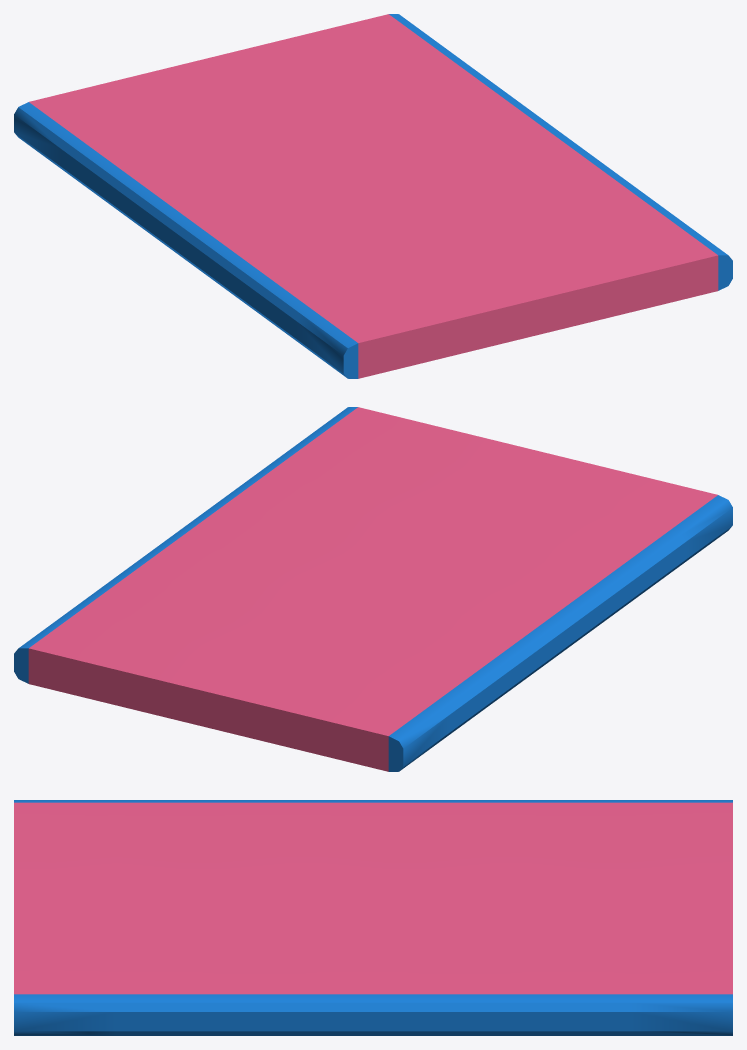
Rendered from trap_gate.fbx.
3 renders of one model, top to bottom at view 1: azimuth 30°, elevation 25°; view 2: azimuth 150°, elevation 25°; view 3: azimuth 270°, elevation 25°, orthographic. The views are drawn at different scales.
Visible parts, largest first — view 1: trap_gate_L, trap_gate_R; view 2: trap_gate_L, trap_gate_R; view 3: trap_gate_R, trap_gate_L.
Part boxes in pixels (x1,y1,x2,y2): trap_gate_L: (14,61,541,378); trap_gate_R: (194,14,732,333); trap_gate_L: (223,450,732,771); trap_gate_R: (14,407,534,731); trap_gate_R: (14,891,732,1035); trap_gate_L: (14,800,732,900).
Size of the model in its own units: 1172 by 103 by 1719.
